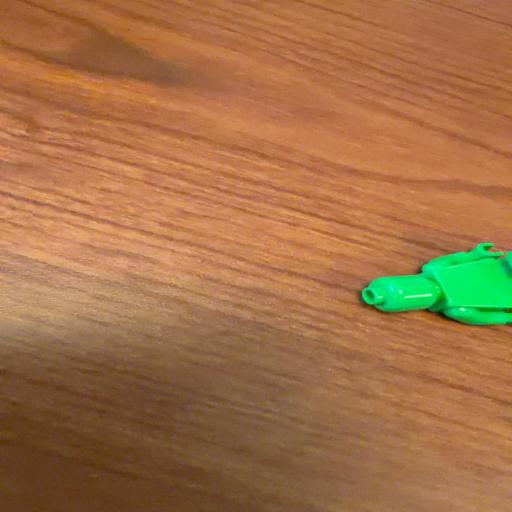UnoQ-minifig-detector: (359, 242, 512, 327)
